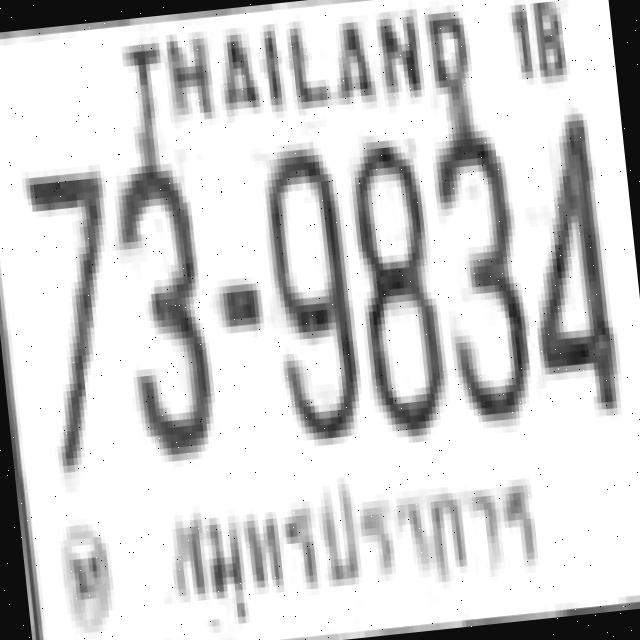3: (106, 148, 216, 458), (428, 112, 530, 420)
4: (514, 106, 620, 415)
7: (18, 156, 129, 474)
8: (342, 130, 444, 432)
9: (256, 139, 362, 442)
SamutPrakan: (159, 456, 547, 631)
